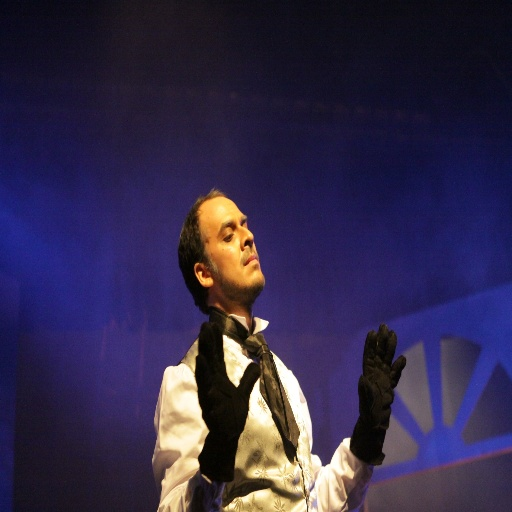hand: (193, 319, 261, 438), (350, 327, 407, 463)
